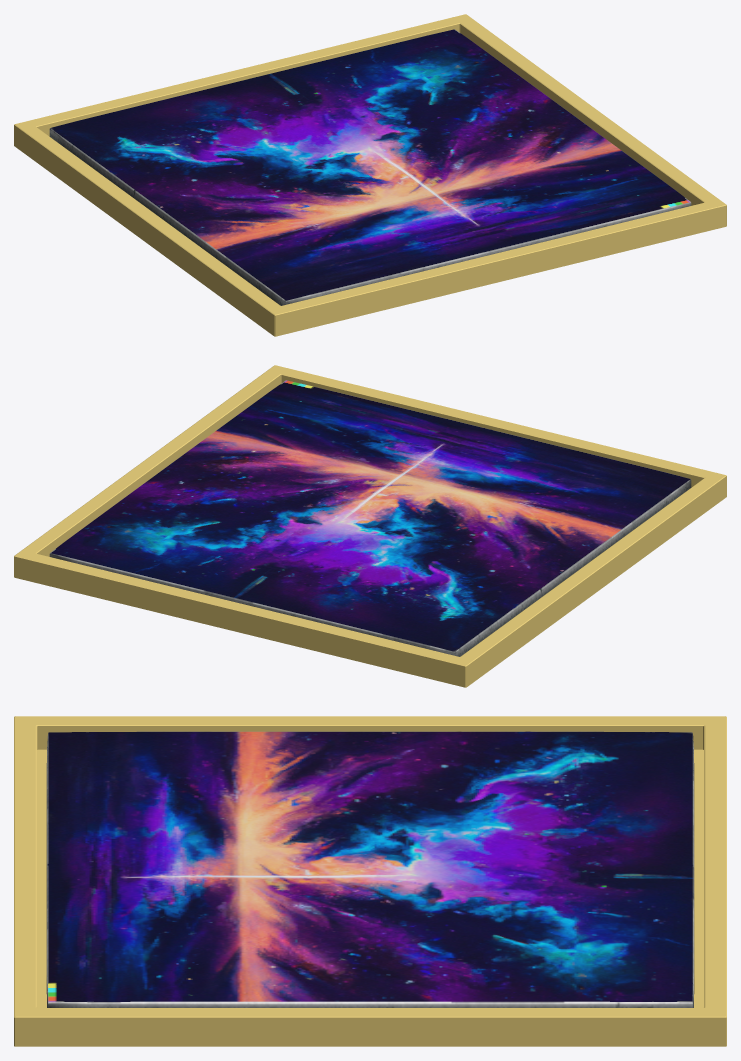
The model's file is GG_Level1_Asset_CafeArt5_005.fbx.
3 renders of one model, top to bottom at view 1: azimuth 30°, elevation 25°; view 2: azimuth 150°, elevation 25°; view 3: azimuth 270°, elevation 25°, orthographic. The views are drawn at different scales.
Visible parts, largest first — view 1: Original_frame1_cafe; view 2: Original_frame1_cafe; view 3: Original_frame1_cafe.
Part boxes in pixels (box(x1,y1,x2,y2)): Original_frame1_cafe: box(14, 14, 726, 336); Original_frame1_cafe: box(14, 365, 726, 687); Original_frame1_cafe: box(14, 716, 726, 1046).
Bounding box in the file's own units: 738 × 35.17 × 738.
1 material, 1 textured.
